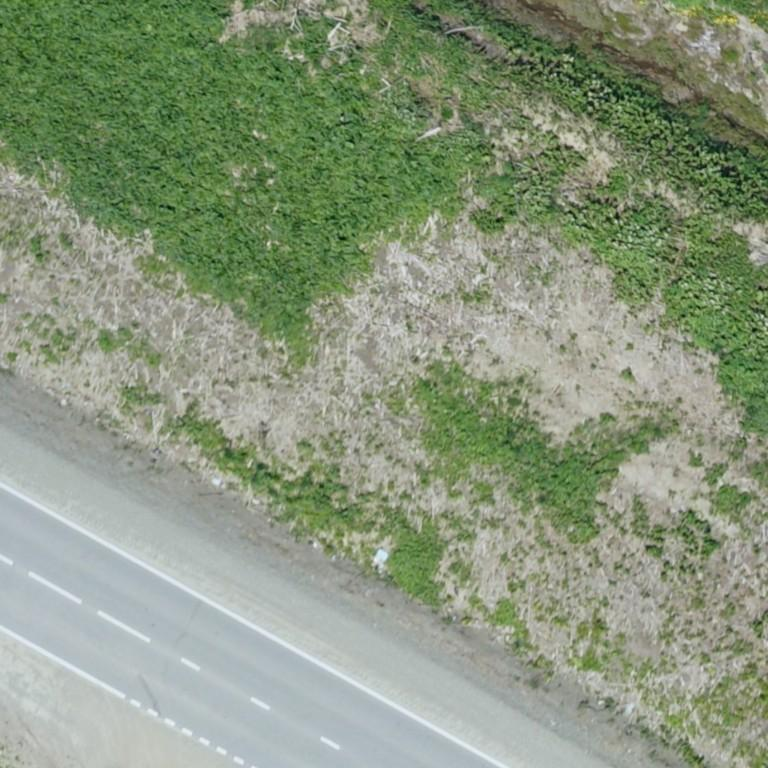hogweed: (0, 0, 493, 333), (473, 208, 505, 230)
